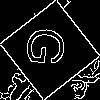G: (25, 25, 76, 70)
